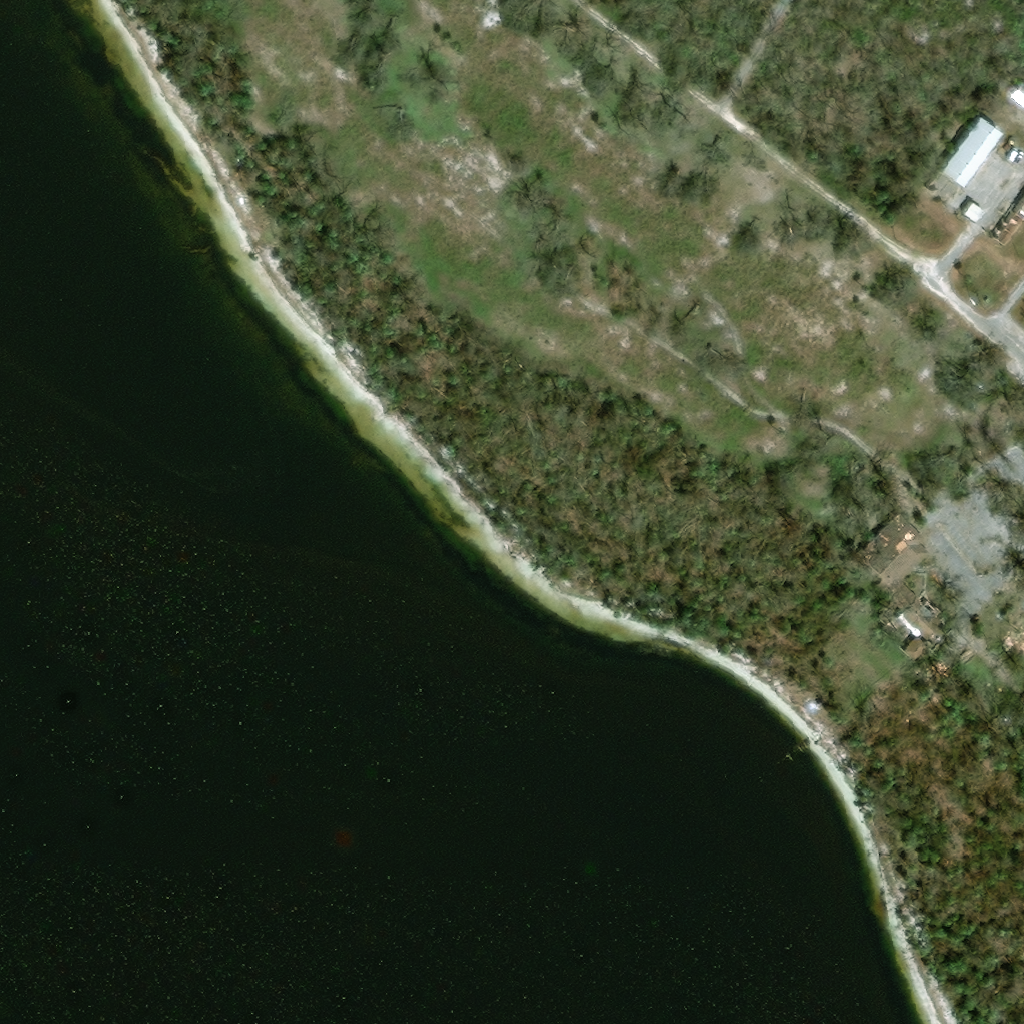destroyed: (934, 175, 966, 205)
major_damage: (912, 592, 952, 640)
minor_damage: (868, 510, 940, 592), (1001, 200, 1024, 250)
no_damage: (949, 116, 1013, 188), (935, 112, 975, 152), (970, 201, 995, 225)
